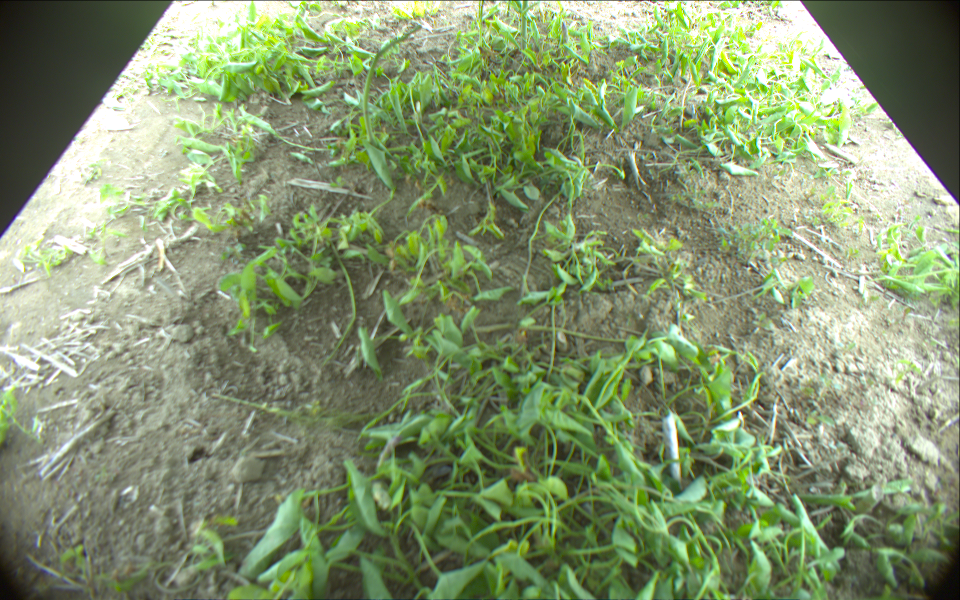aspa: (363, 20, 420, 142), (375, 435, 402, 477), (520, 1, 529, 48), (561, 21, 570, 49)
